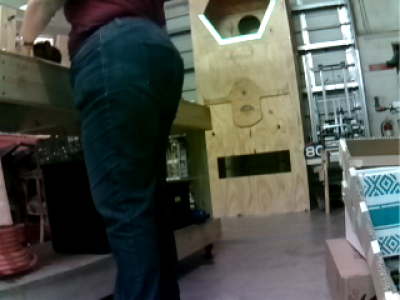target: (197, 1, 276, 45)
